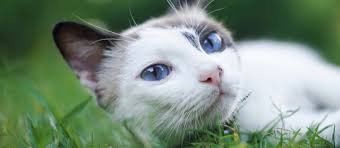cat: (58, 1, 285, 146)
